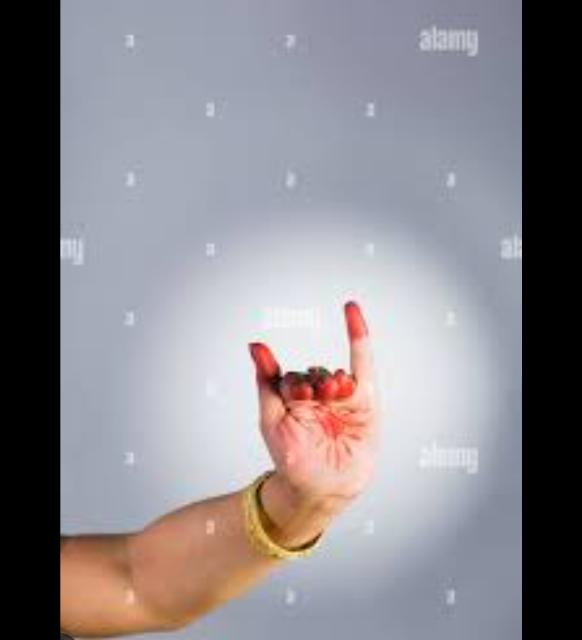mrighasheesh: (61, 302, 386, 640)
